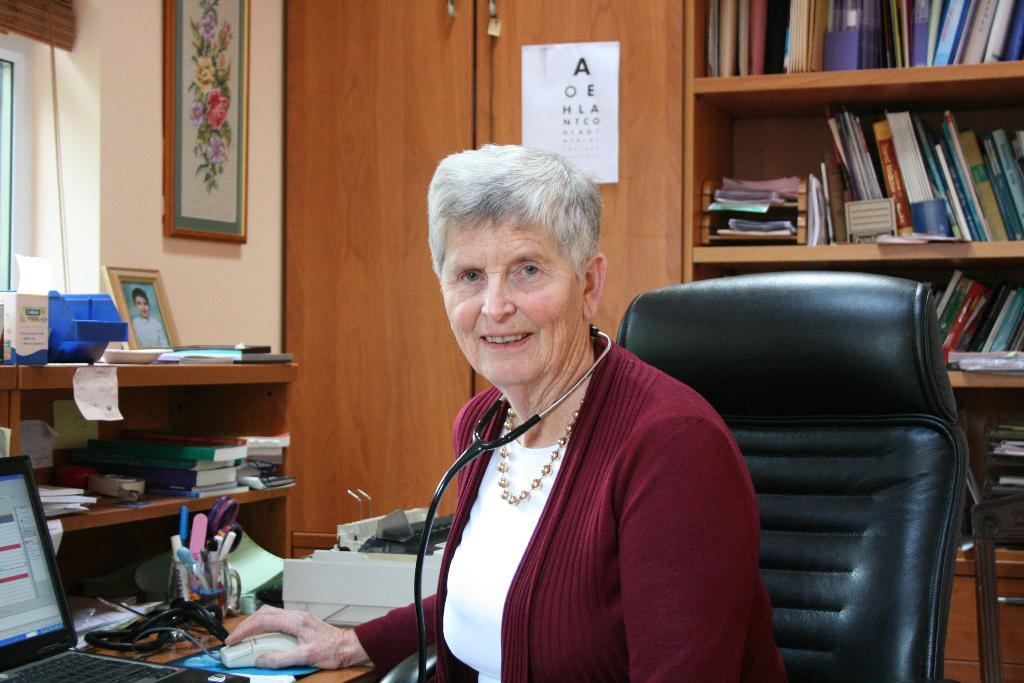Chair: (617, 240, 982, 683)
